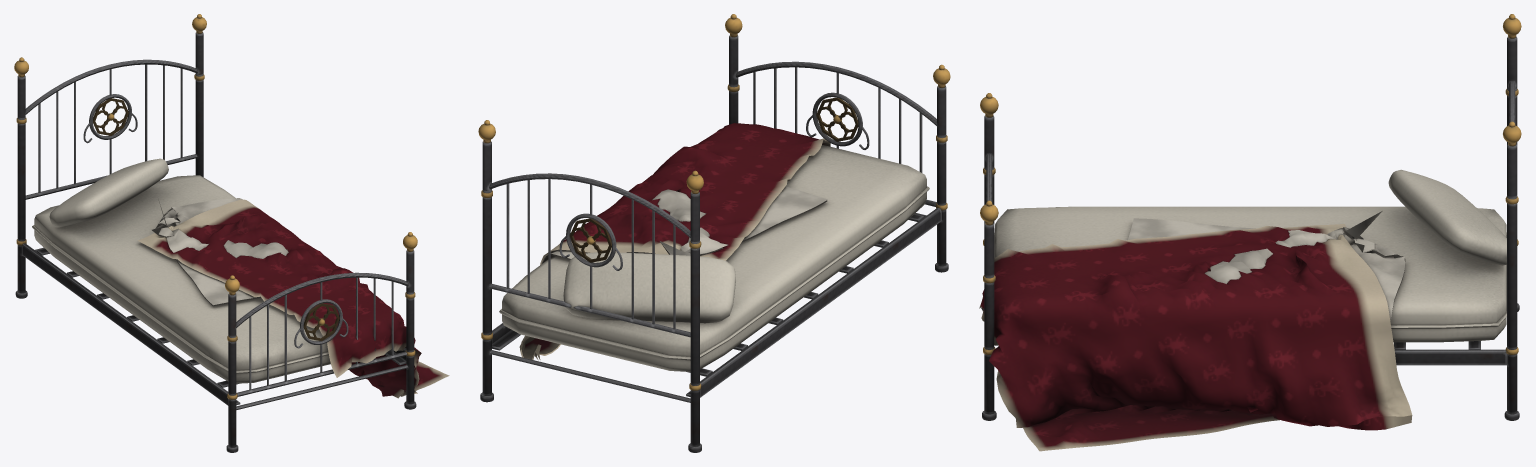
The model's file is DormBedUnmade.fbx.
3 renders of one model, left to right at view 1: azimuth 30°, elevation 25°; view 2: azimuth 150°, elevation 25°; view 3: azimuth 270°, elevation 25°, orthographic. The views are drawn at different scales.
Visible parts, largest first — view 1: DormBedUnmade; view 2: DormBedUnmade; view 3: DormBedUnmade.
Boxes of the visible parts, bbox=[...] form: DormBedUnmade: bbox=[14, 14, 449, 452]; DormBedUnmade: bbox=[478, 14, 950, 452]; DormBedUnmade: bbox=[979, 14, 1521, 451].
Bounding box in the file's own units: 522 × 526 × 809.
